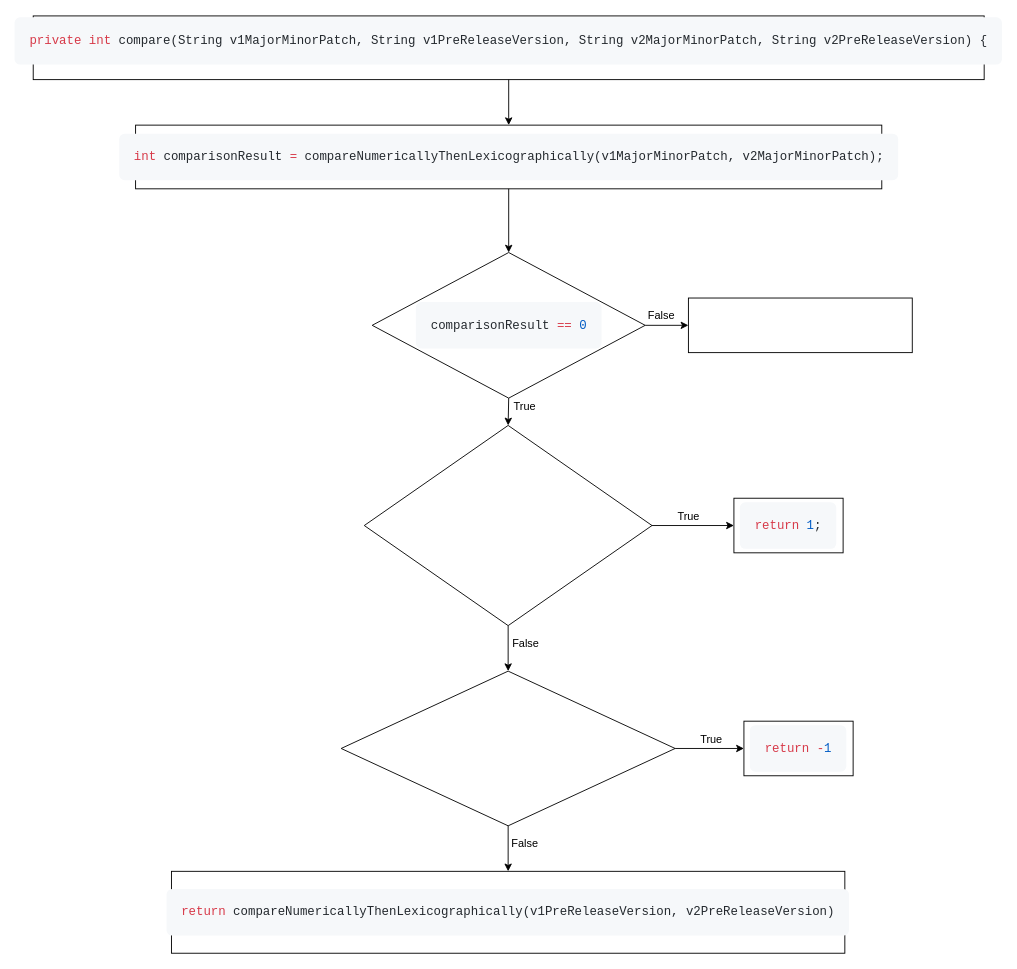
Some shapes in this 1017 by 969 pixel diagram are drawn without their labels. Here are the shapes that lost their labels. From the top down, the box of each, then its label:
(688, 297, 912, 353): return comparisonResult
(363, 425, 652, 626): v1PreReleaseVersion . isEmpty()
(340, 670, 675, 826): v2PreReleaseVersion . isEmpty()
